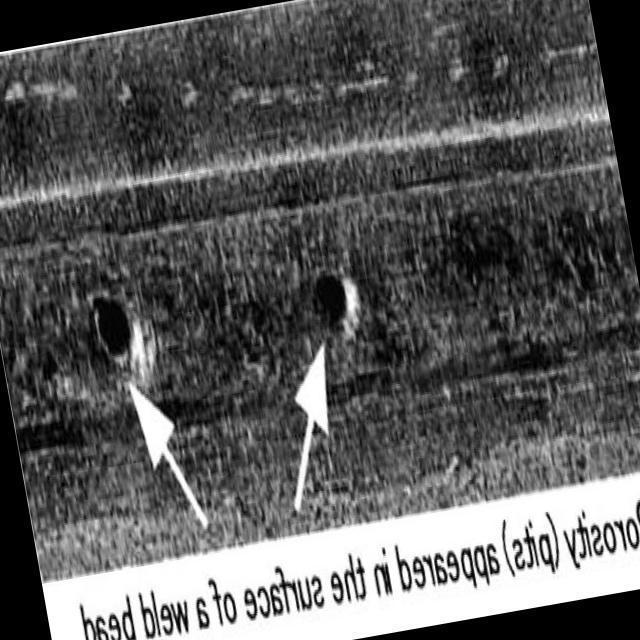defect: (301, 241, 368, 333), (87, 283, 134, 377)
